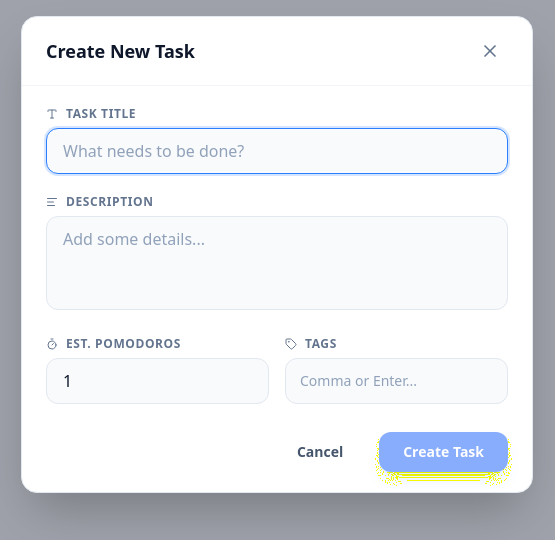
Test: CreateTaskDialog › adds tag when Enter is pressed in tag input
In the field with placeholder "Comma or Enter...": (396, 380) [292,370,501,390], type "urgent"
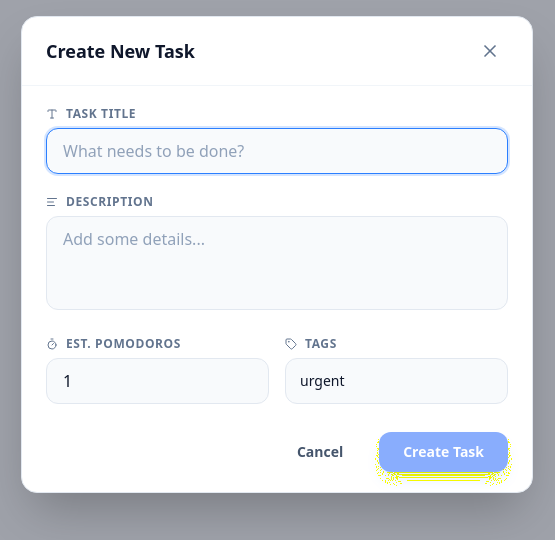
Press Enter in the field with placeholder "Comma or Enter...", box [292,370,501,390]
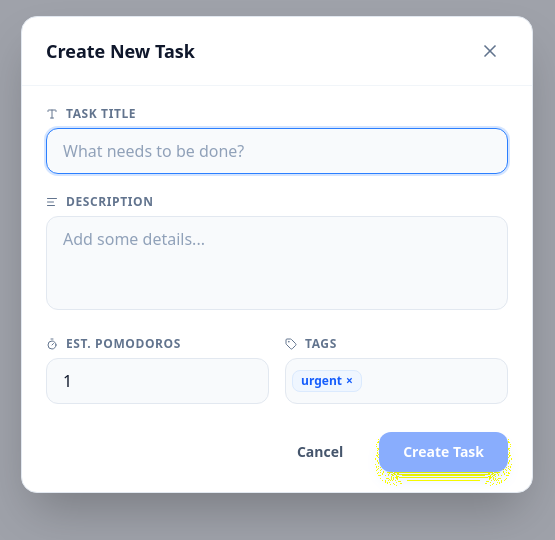
Now the text "urgent" is shown, box [301,372,342,388]
